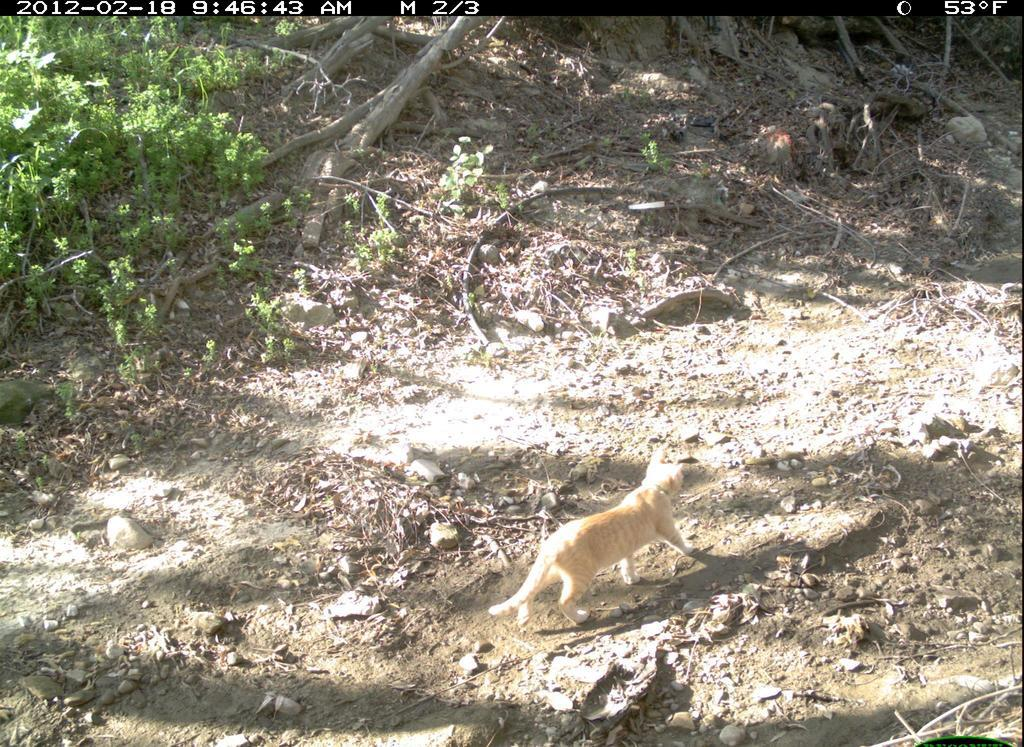cat: (481, 450, 730, 641)
